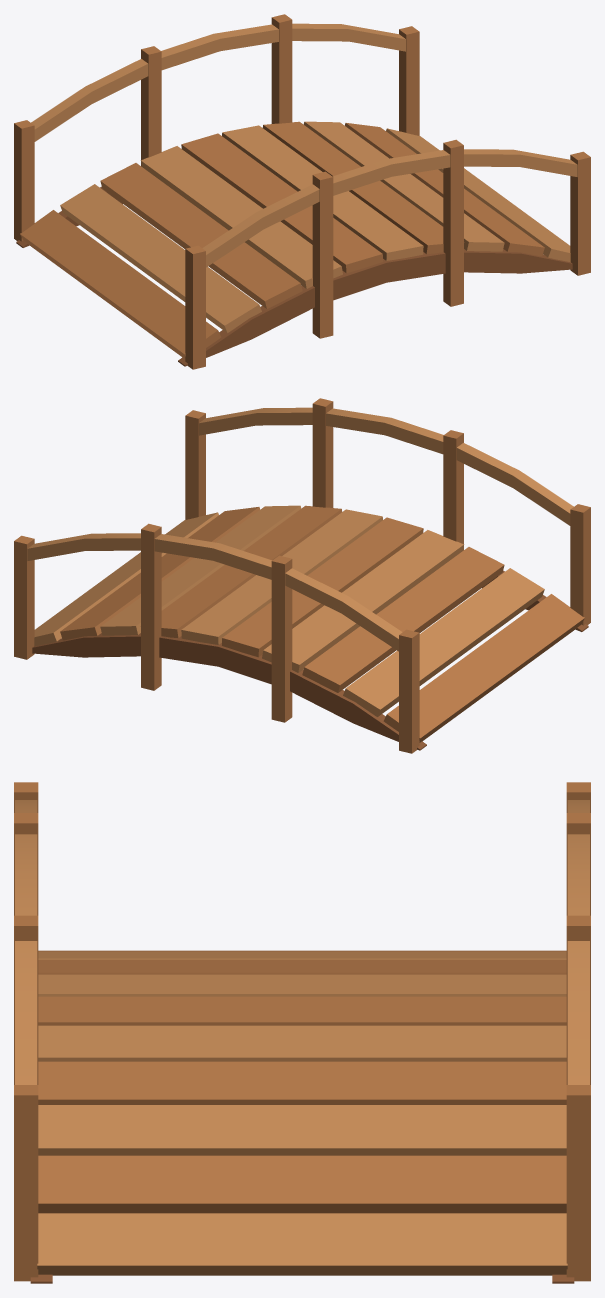
The model's file is bridge_wood.glb.
3 renders of one model, top to bottom at view 1: azimuth 30°, elevation 25°; view 2: azimuth 150°, elevation 25°; view 3: azimuth 270°, elevation 25°, orthographic. The views are drawn at different scales.
Parts seen in each view (by area): view 1: bridge_wood; view 2: bridge_wood; view 3: bridge_wood.
Boxes of the visible parts, x1,y1,x2,y2 form: bridge_wood: [14, 14, 590, 369]; bridge_wood: [14, 398, 590, 753]; bridge_wood: [14, 782, 590, 1283].
Size of the model in its own units: 3.4 by 1.27 by 2.61.
Materials: 1 (1 with a texture image).
